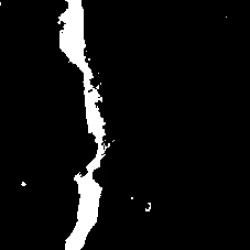crack: (59, 2, 109, 249)
pinhole: (141, 201, 154, 214), (18, 179, 30, 189), (129, 196, 136, 202)
